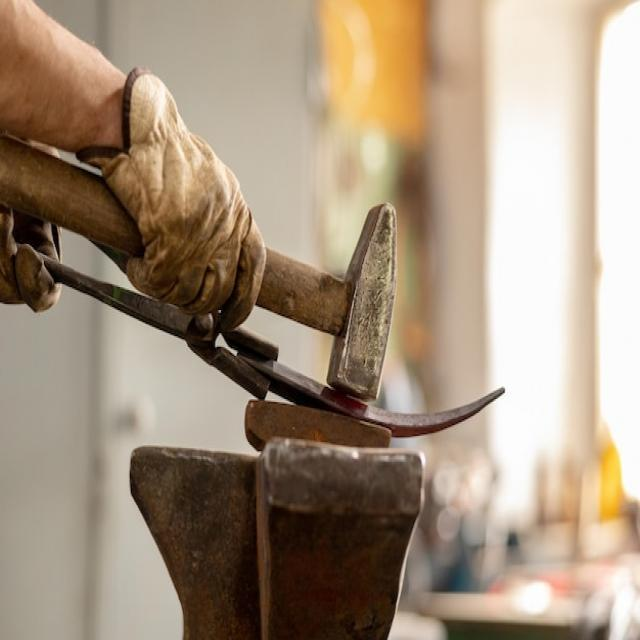hammer: (0, 134, 406, 406)
